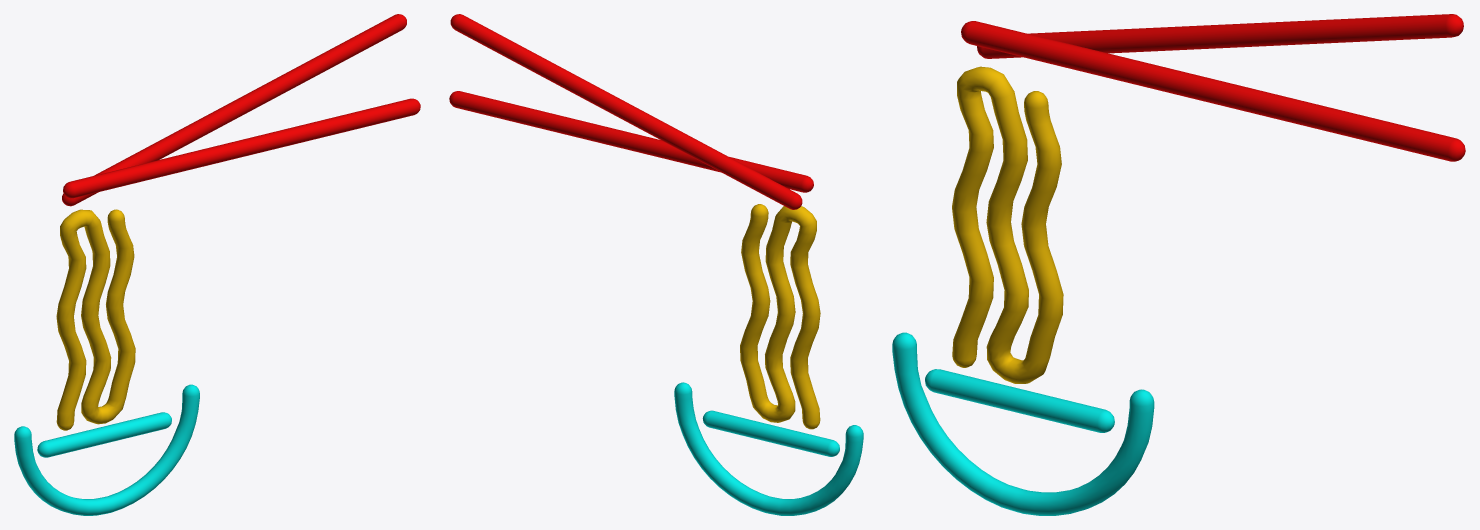
Rendered from NeonSign_1_FBX.fbx.
3 renders of one model, left to right at view 1: azimuth 30°, elevation 25°; view 2: azimuth 150°, elevation 25°; view 3: azimuth 330°, elevation 25°, orthographic. The views are drawn at different scales.
Visible parts, largest first — view 1: pCylinder59; view 2: pCylinder59; view 3: pCylinder59.
Boxes of the visible parts, left/top/right/bottom form: pCylinder59: left=14, top=14, right=420, bottom=515; pCylinder59: left=449, top=14, right=863, bottom=515; pCylinder59: left=892, top=14, right=1465, bottom=515.
Bounding box in the file's own units: 8.16 × 8.11 × 0.5165.
